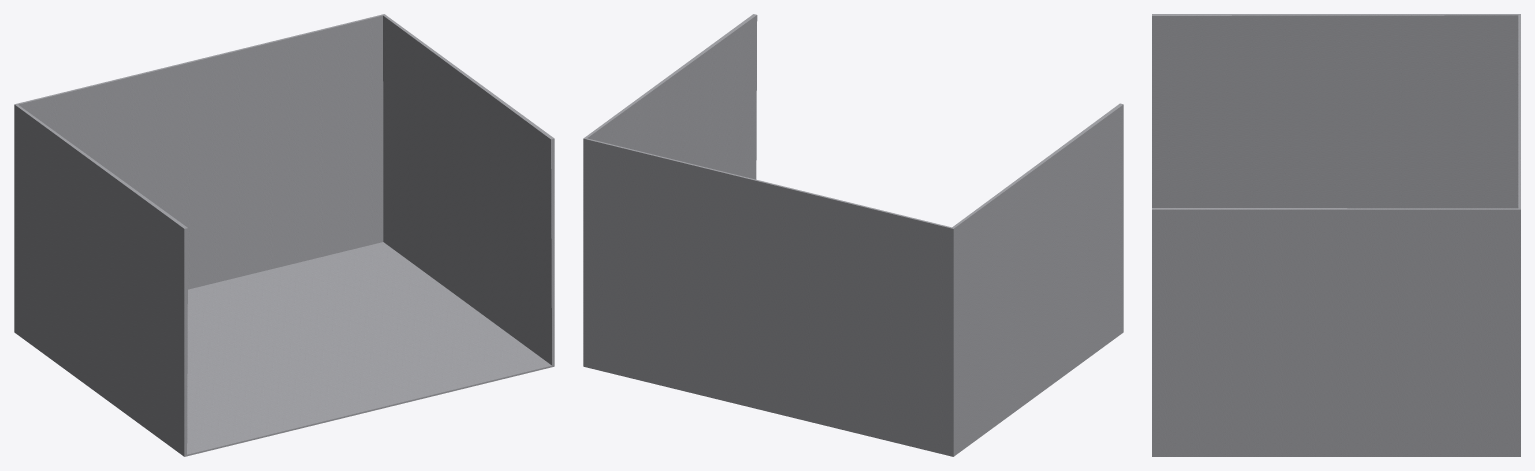
Rendered from SCG_exh_front.glb.
3 views of the same model, side by side, from view 1: azimuth 30°, elevation 25°; view 2: azimuth 150°, elevation 25°; view 3: azimuth 270°, elevation 25° (orthographic). The views are drawn at different scales.
Parts seen in each view (by area): view 1: Cube.004; view 2: Cube.004; view 3: Cube.004.
Boxes of the visible parts, x1,y1,x2,y2 form: Cube.004: [14, 14, 554, 456]; Cube.004: [583, 14, 1123, 456]; Cube.004: [1152, 14, 1520, 456].
Size of the model in its own units: 11.01 by 6.48 by 8.77.
1 material, 1 textured.
